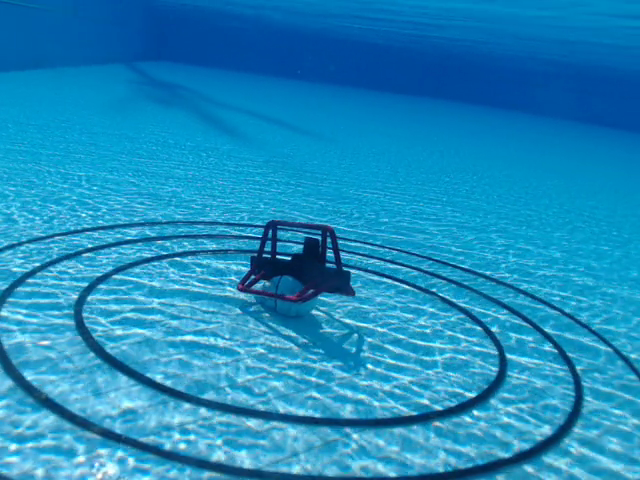submarine: (236, 219, 359, 305)
